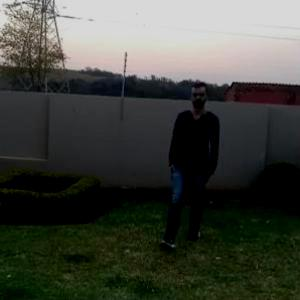follow: (166, 81, 222, 250)
